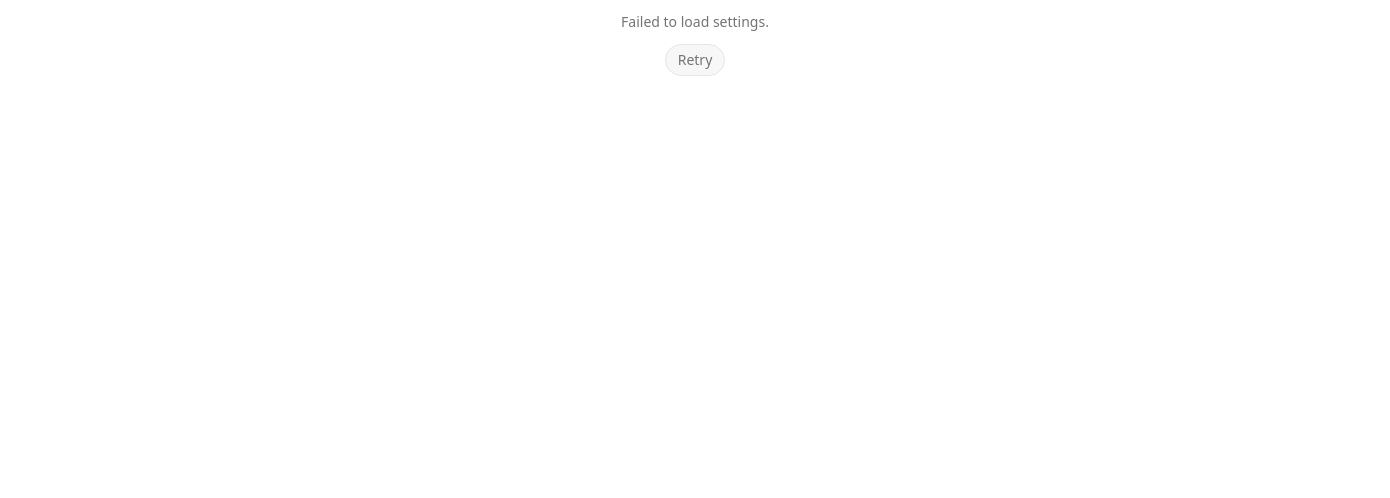
Scenario: ChannelEventsTab load failure › retrying after a failed load fetches the config again and renders it
The image size is (1390, 498).
Click the button "Retry": (695, 60) [665,44,725,76]
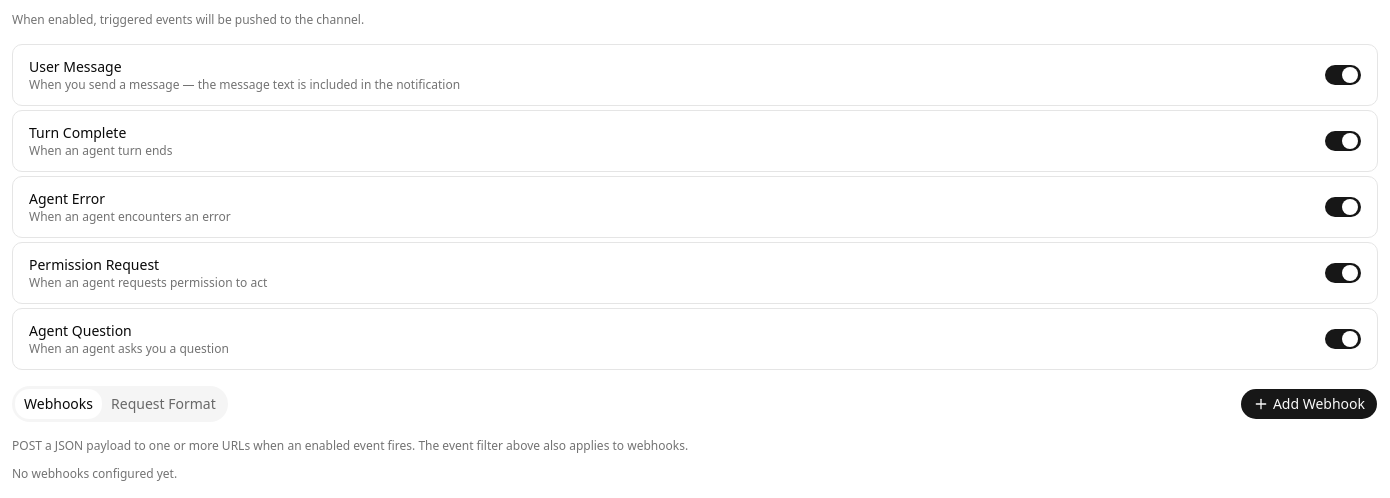
Check: the switch named "User Message" is checked, box [1325,65,1361,85]
